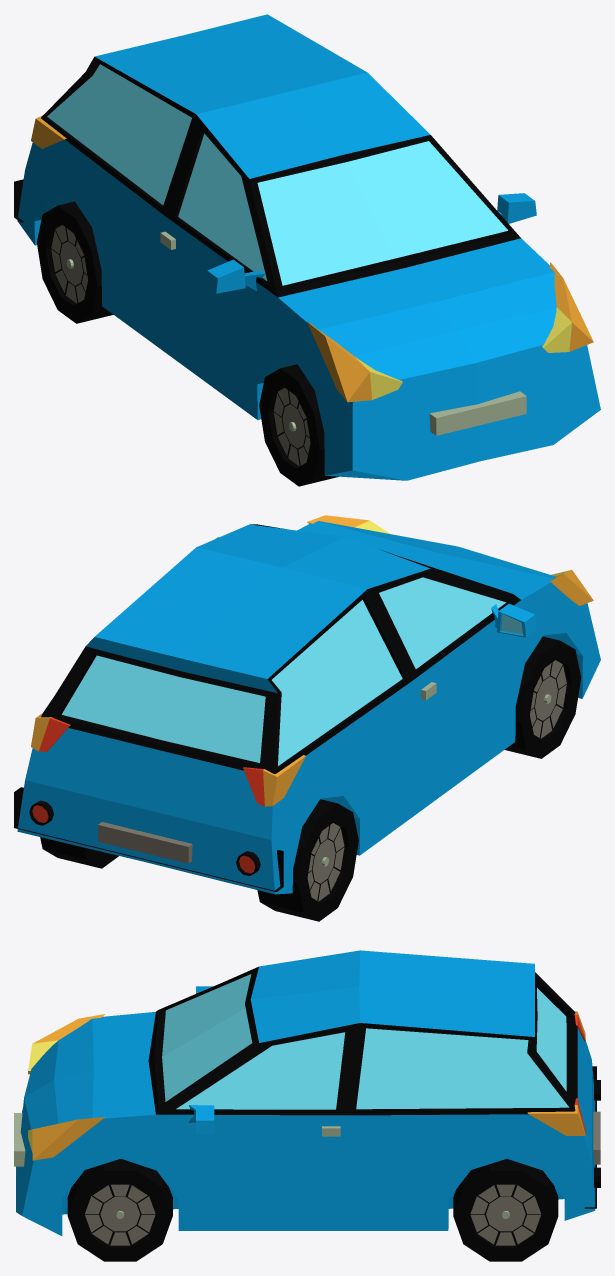
File: CarI10.fbx
3 views of the same model, one above another, from view 1: azimuth 30°, elevation 25°; view 2: azimuth 150°, elevation 25°; view 3: azimuth 270°, elevation 25° (orthographic). The views are drawn at different scales.
Parts seen in each view (by area): view 1: i10; view 2: i10; view 3: i10.
Part boxes in pixels (x1,y1,x2,y2): i10: [14, 14, 600, 486]; i10: [14, 515, 600, 921]; i10: [14, 950, 600, 1261].
Size of the model in its own units: 258 by 195 by 471.
